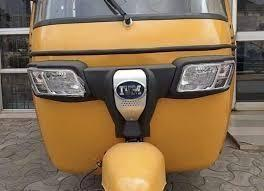keke: (24, 1, 252, 189), (0, 66, 35, 113)
